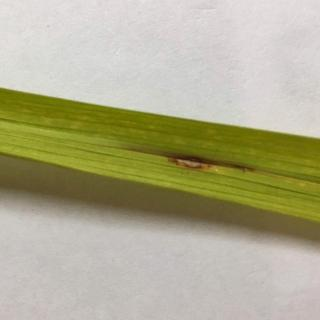Blast: (144, 137, 275, 185)
